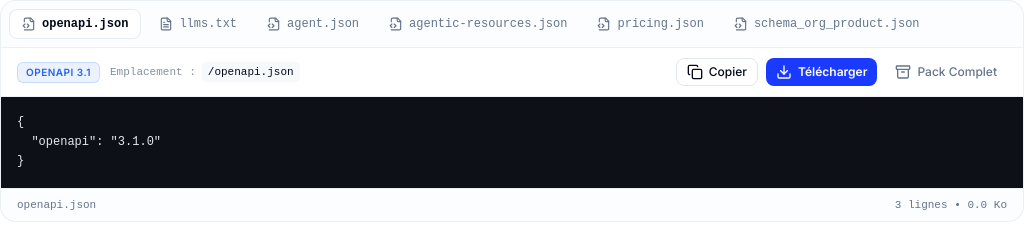
Test: AgenticRemediationViewer › allows clicking tabs to switch files and update metadata
Click the button "agent.json" at (313, 24), box [255,10,371,38]
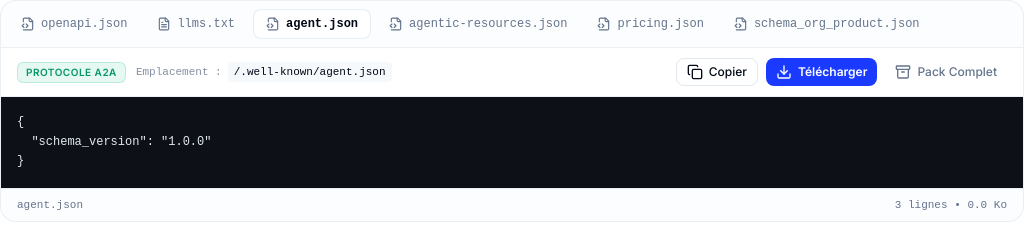
Expected: the text "/.well-known/agent.json" is shown, [228,62,392,82]
Expected: the text "Protocole A2A" is shown, [17,62,126,82]
